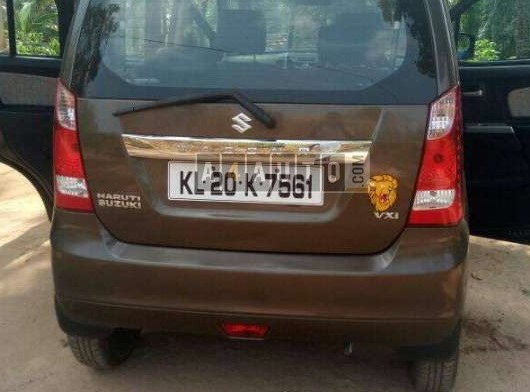KL20K7561: (168, 162, 324, 205)
